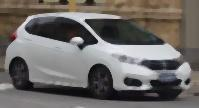Car hood: (108, 43, 185, 61)
Driver-s door - -F-R-: (51, 13, 96, 84)
Fender - -F-R-: (87, 42, 115, 86)
Fender - -R-R-: (10, 29, 31, 81)
Front bumper: (108, 65, 196, 94)
Headlight - -L-: (172, 52, 188, 67)
Headlight - -R-: (108, 51, 149, 67)
Passenger-s door - -R-R-: (19, 13, 52, 81)
Rear bumper: (3, 44, 17, 76)
Rear light - -R-: (5, 27, 20, 46)
Side bumper - -R-: (27, 72, 91, 91)
Side mirror - -R-: (68, 34, 86, 52)
